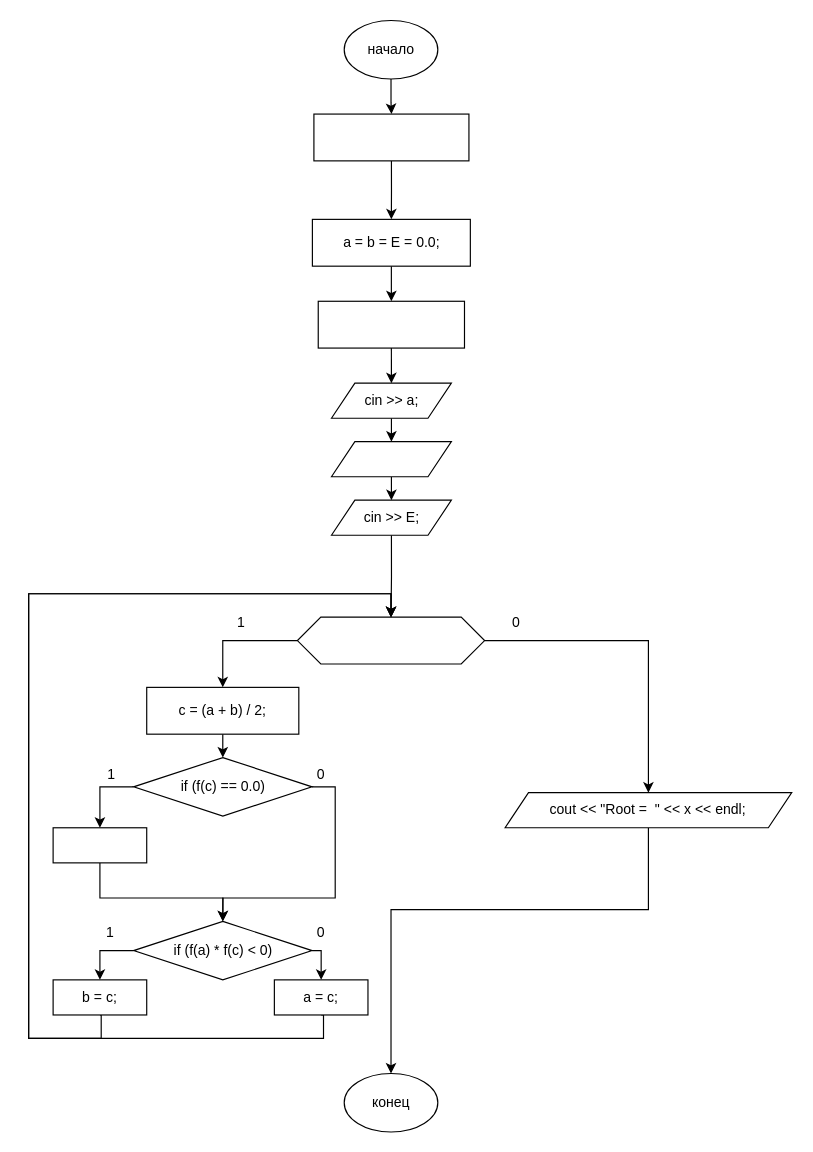
Image size: 813x1152. Some labels were removed from this diagram. Here are the shapes that lost their labels. From the top down, the centre of each, then its label:
(x=391, y=137): double a, b, c, E;
(x=390, y=324): c = 0.0;
(x=390, y=459): cin >> b;
(x=390, y=640): while ((b - a) / 2 > E)
(x=99, y=845): break;
